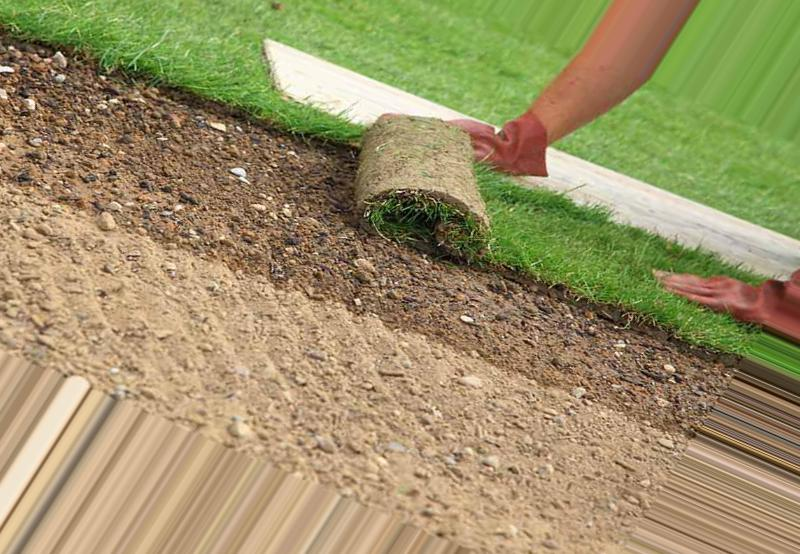patch: (48, 119, 245, 394), (409, 281, 527, 509), (266, 176, 356, 426), (562, 308, 619, 499), (625, 347, 692, 423), (42, 55, 93, 103)
